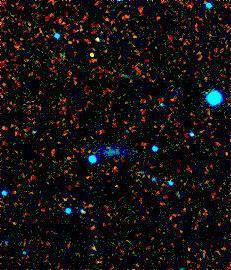star: (74, 35, 104, 65)
